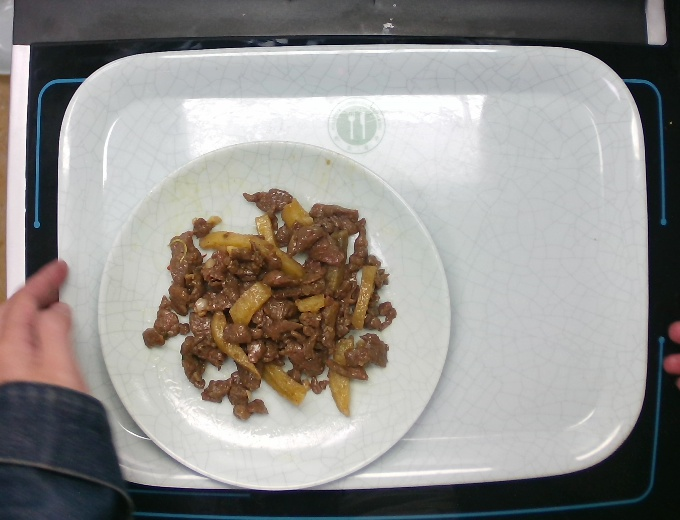JYsf-Da_Yuan_Pan: (99, 140, 450, 496)
